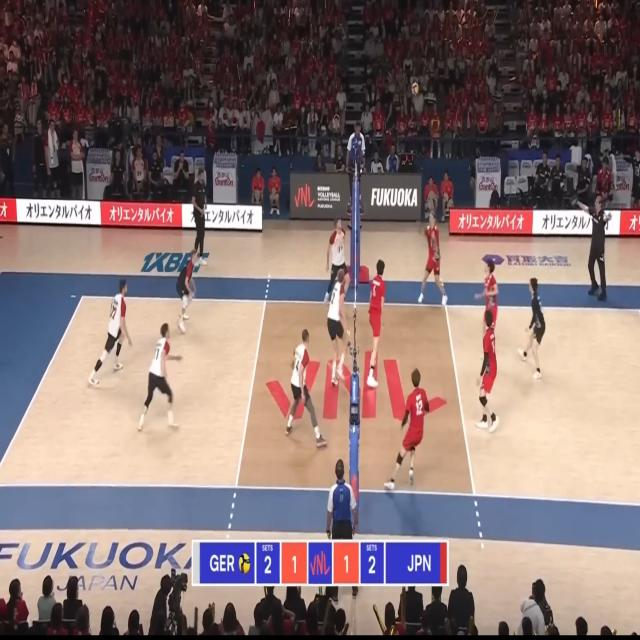ball: (412, 82, 418, 96)
